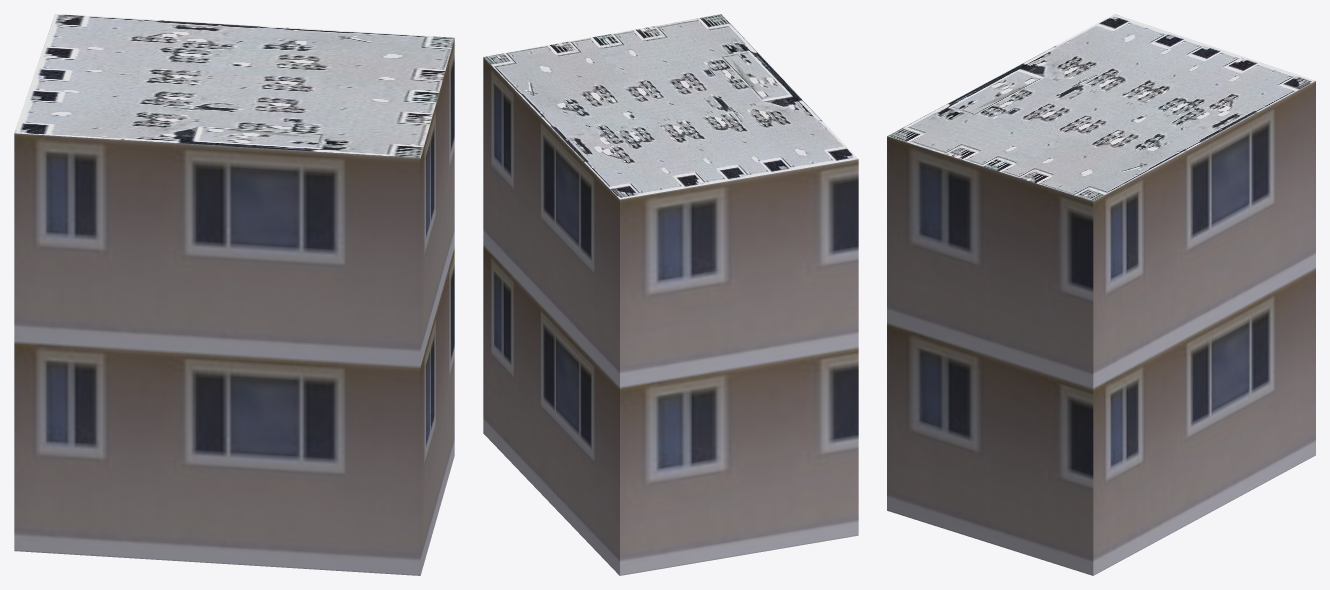
Rendered from ResTex__2712.fbx.
3 renders of one model, left to right at view 1: azimuth 30°, elevation 25°; view 2: azimuth 150°, elevation 25°; view 3: azimuth 270°, elevation 25°, orthographic. The views are drawn at different scales.
Parts seen in each view (by area): view 1: CityEngineMaterial_21_m, CityEngineMaterial_8_m; view 2: CityEngineMaterial_21_m, CityEngineMaterial_8_m; view 3: CityEngineMaterial_21_m, CityEngineMaterial_8_m.
Boxes of the visible parts, box(x1,y1,x2,y2) form: CityEngineMaterial_21_m: box(14, 39, 454, 575); CityEngineMaterial_8_m: box(14, 14, 454, 158); CityEngineMaterial_21_m: box(483, 57, 858, 575); CityEngineMaterial_8_m: box(484, 14, 858, 199); CityEngineMaterial_21_m: box(887, 81, 1315, 575); CityEngineMaterial_8_m: box(887, 14, 1315, 201).
Bounding box in the file's own units: 6.44 × 6 × 6.22.
Materials: 2 (2 with a texture image).
